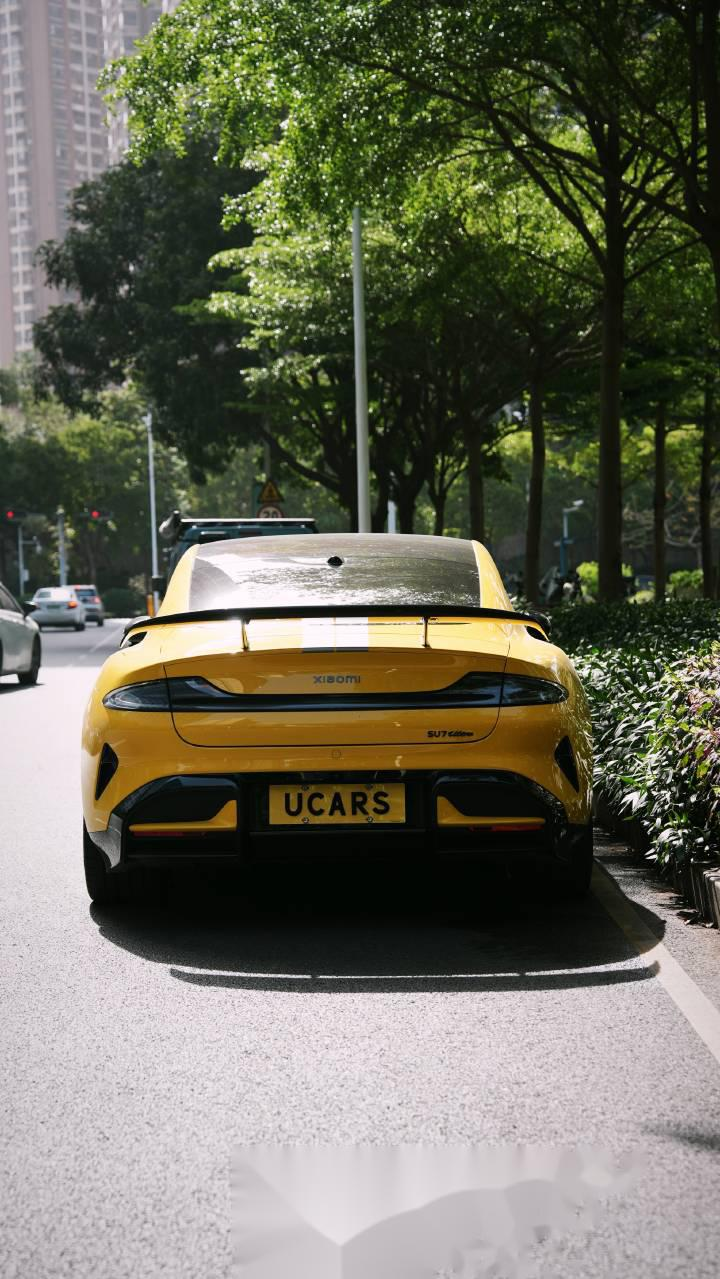other: (23, 581, 89, 631)
su7: (73, 522, 594, 902)
